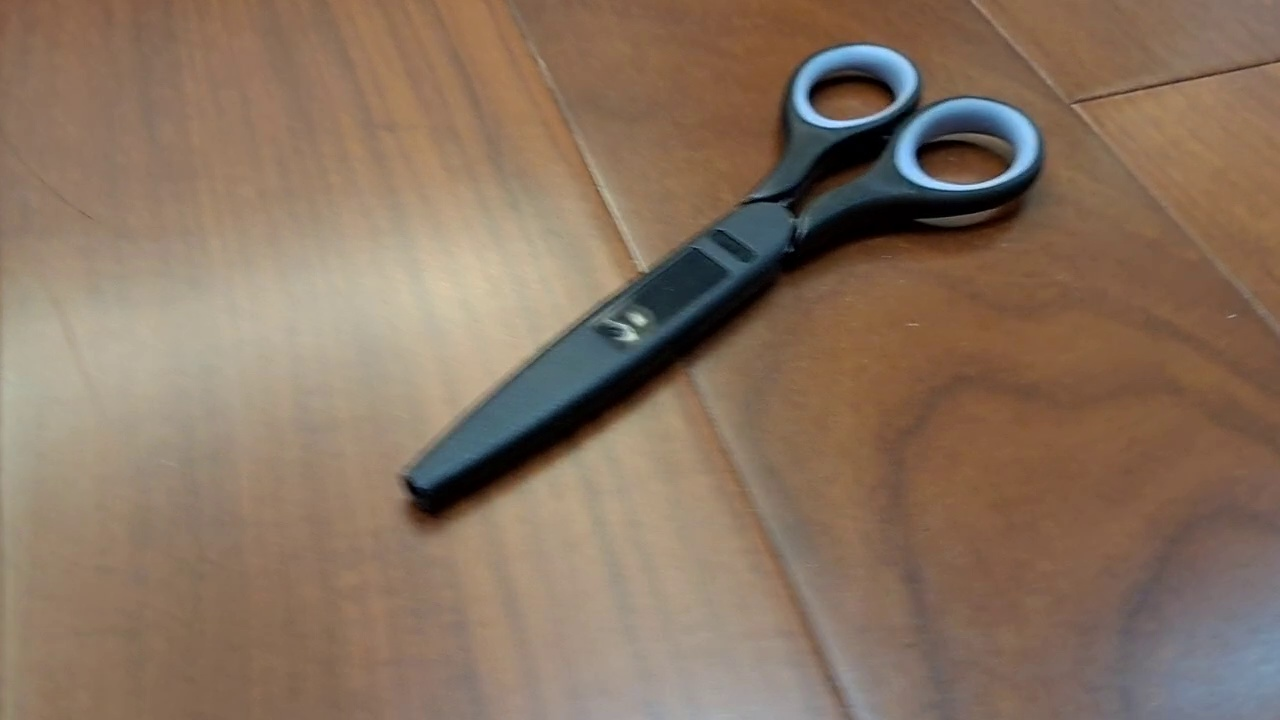scissors: (395, 41, 1047, 519)
